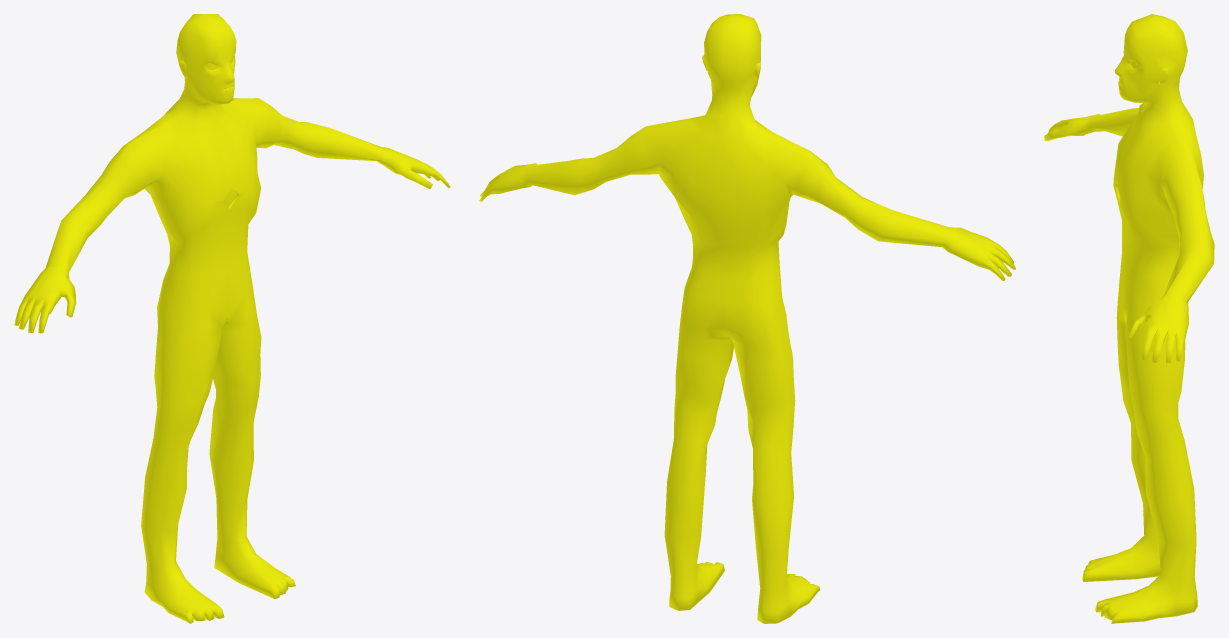
The model's file is FBX角色文件_角色_僵尸_01.glb.
3 views of the same model, side by side, from view 1: azimuth 30°, elevation 25°; view 2: azimuth 150°, elevation 25°; view 3: azimuth 270°, elevation 25° (orthographic). The views are drawn at different scales.
Parts seen in each view (by area): view 1: NormalDemon; view 2: NormalDemon; view 3: NormalDemon.
Part boxes in pixels (<box>): NormalDemon: <box>14,14,450,623</box>; NormalDemon: <box>479,14,1015,623</box>; NormalDemon: <box>1044,14,1214,623</box>.
Size of the model in its own units: 1.5 by 1.75 by 0.4698.
1 material, 1 textured.
